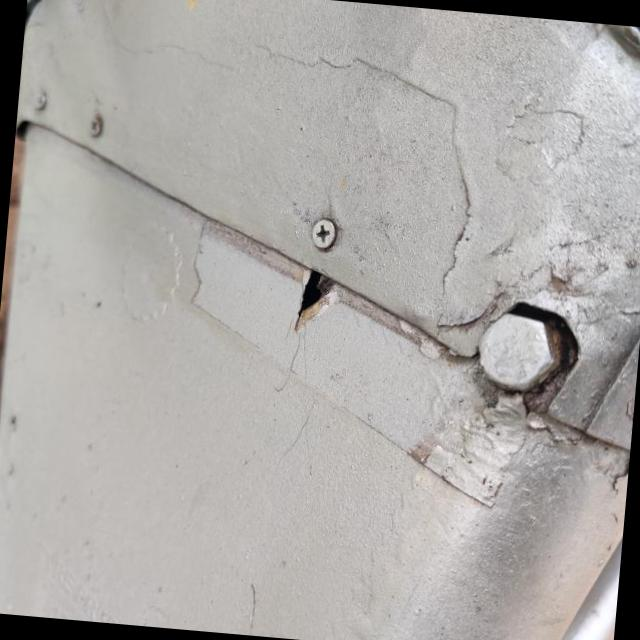Crack: (287, 270, 339, 335)
